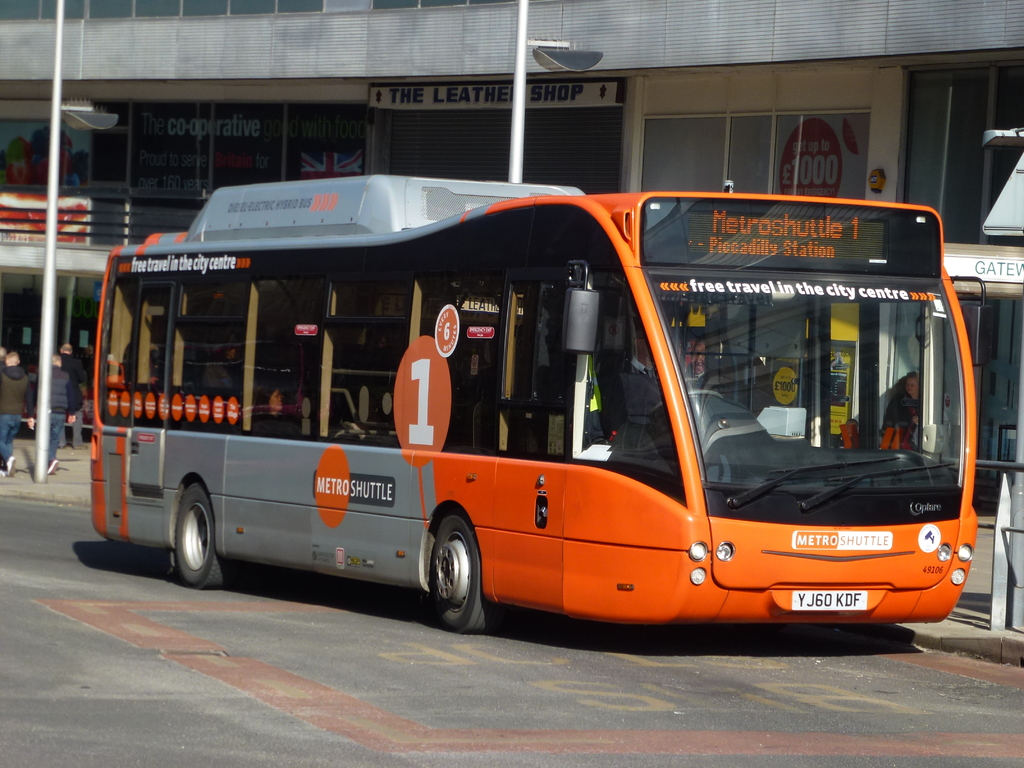Bus: (90, 174, 986, 630)
